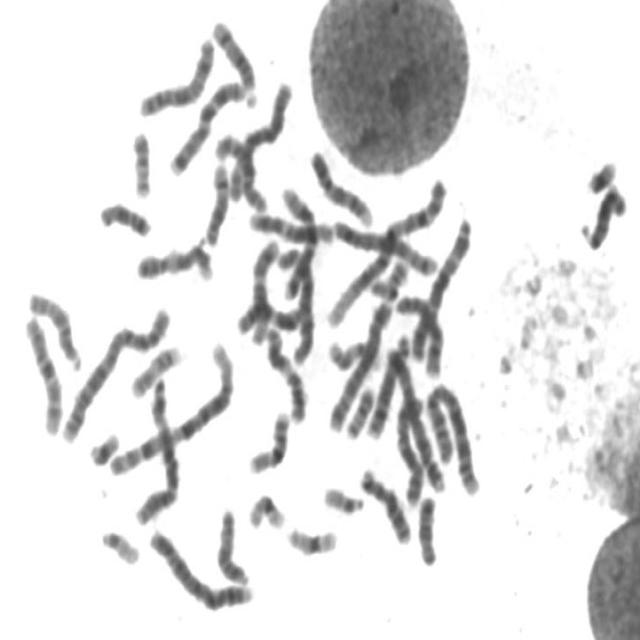A1: (322, 169, 450, 330), (102, 332, 237, 478)
A2: (56, 299, 174, 445), (419, 374, 483, 498)
A3: (406, 207, 475, 364), (129, 370, 183, 528)
B4: (376, 336, 450, 495), (143, 520, 255, 614)
B5: (322, 267, 399, 435), (329, 216, 448, 284)
C10: (19, 308, 64, 437), (209, 124, 270, 216)
C11: (259, 317, 309, 426), (231, 292, 307, 337)
C12: (244, 231, 281, 346), (244, 202, 336, 245)
C6: (222, 71, 296, 202), (271, 237, 318, 366)
C7: (164, 71, 252, 177), (276, 180, 319, 300)
C8: (362, 326, 415, 442), (391, 285, 446, 379)
C9: (304, 141, 374, 227), (130, 237, 216, 283)
D13: (353, 459, 414, 547), (210, 505, 256, 599)
D14: (206, 9, 261, 109), (199, 153, 232, 248)
D15: (22, 282, 85, 372), (572, 184, 632, 255)
E16: (243, 402, 292, 476), (365, 256, 420, 305)
E17: (125, 335, 186, 401), (322, 330, 384, 373)
E18: (93, 192, 154, 240), (412, 486, 440, 568)
F19: (280, 516, 340, 558), (242, 484, 288, 532)
F20: (340, 378, 378, 440), (125, 121, 154, 200)
G21: (580, 150, 620, 196), (84, 423, 122, 468)
G22: (95, 520, 142, 567), (317, 477, 366, 517)
X: (132, 28, 218, 120), (389, 389, 428, 507)
